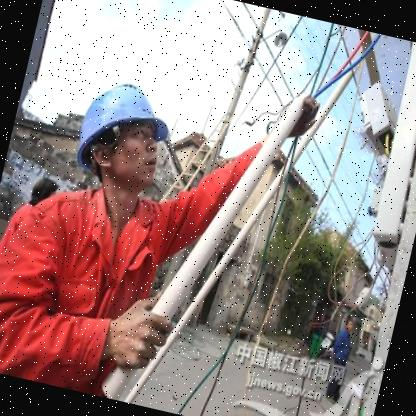capacete: (66, 71, 181, 195), (342, 314, 358, 333)
sem_colete_refletivo: (0, 161, 188, 407), (327, 327, 356, 367)
